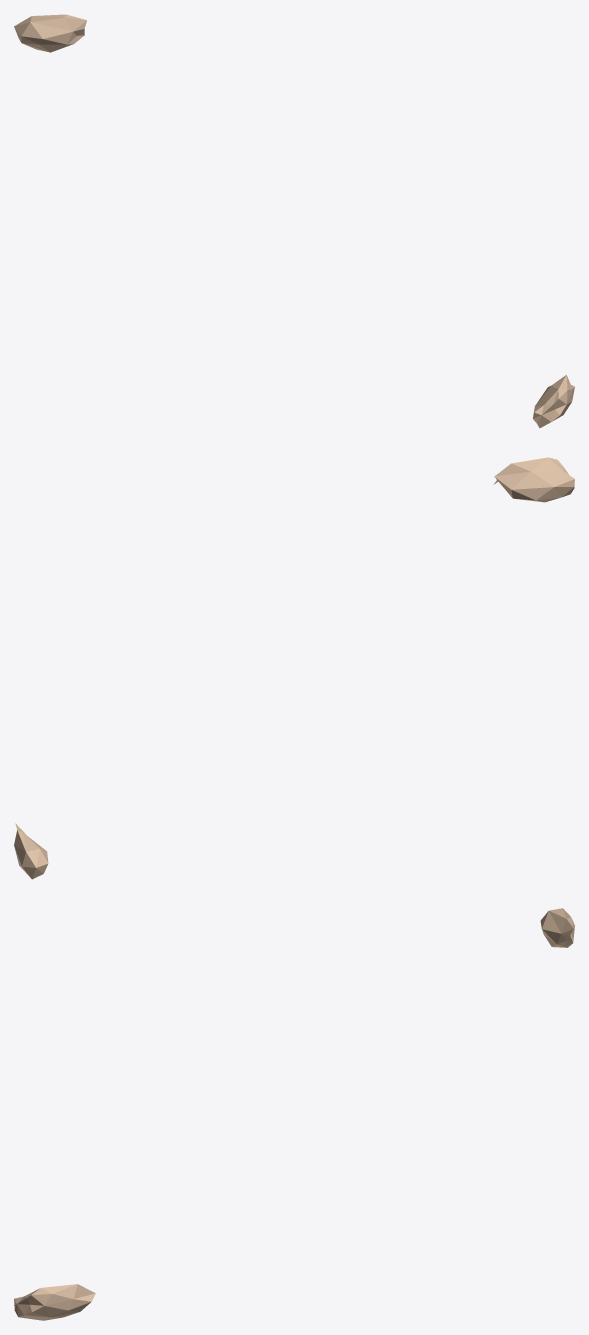
3 views of the same model, one above another, from view 1: azimuth 30°, elevation 25°; view 2: azimuth 150°, elevation 25°; view 3: azimuth 330°, elevation 25° (orthographic).
Parts seen in each view (by area): view 1: 549009219.obj; view 2: 549009219.obj; view 3: 549009219.obj.
Part boxes in pixels (<box>): 549009219.obj: <box>14,14,574,428</box>; 549009219.obj: <box>14,457,574,879</box>; 549009219.obj: <box>14,908,574,1320</box>.
Size of the model in its own units: 170 by 106 by 2635.
